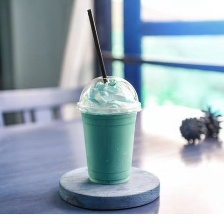drinking_straw: (82, 6, 113, 84)
glass: (72, 72, 145, 188)
